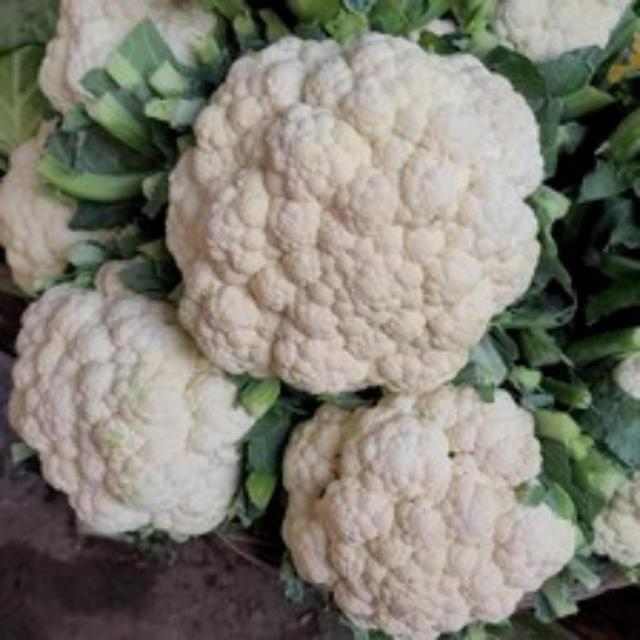cauliflower: (148, 24, 563, 414)
